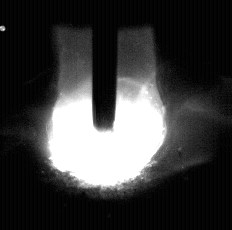arame: (93, 0, 116, 132)
poca: (50, 0, 164, 230)
